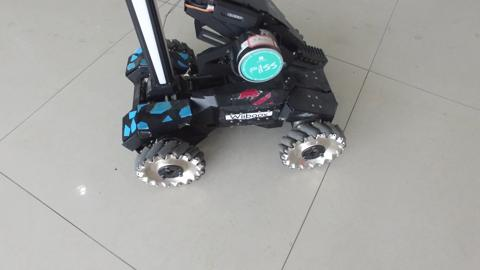chariot: (104, 10, 334, 189)
